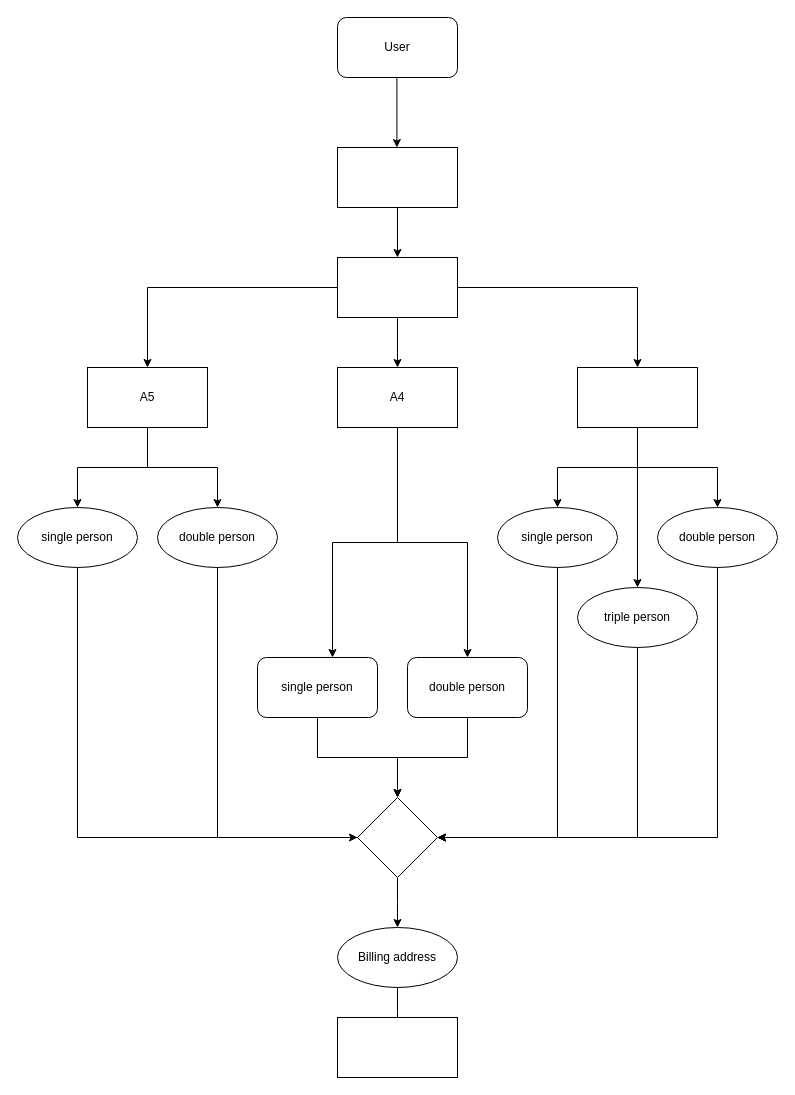
The diagram is 795 pixels wide and 1095 high, and some of its shapes have lost their labels. Here are the shapes that lost their labels. From the top down, the box of each, then its label:
(336, 146, 458, 208): home Page
(336, 256, 458, 318): Handmade sketches Various size
(576, 366, 698, 428): A3
(356, 796, 438, 878): Price
(336, 1016, 458, 1078): ordered
